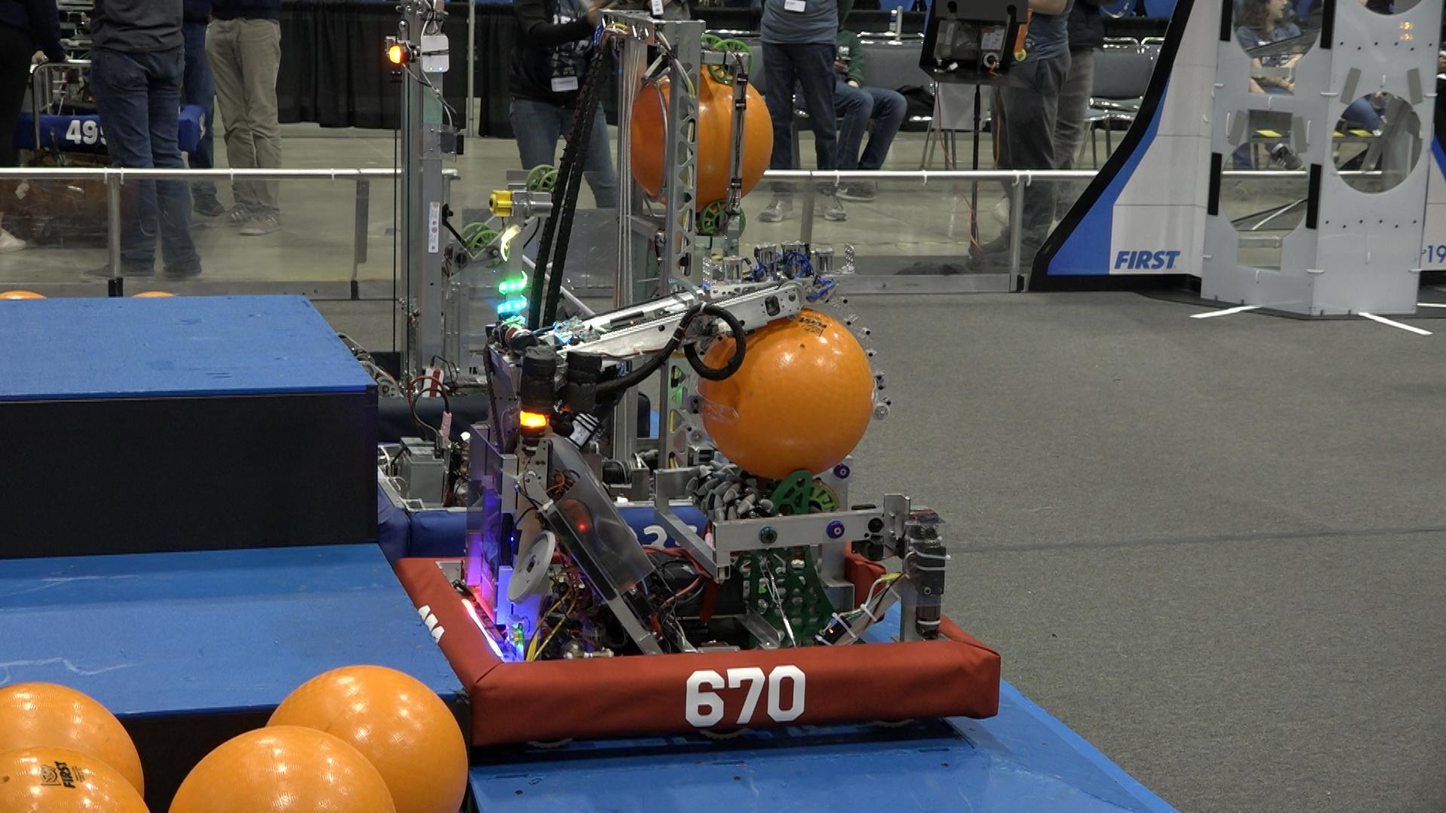robot: (393, 3, 1012, 753), (354, 0, 792, 583), (313, 179, 659, 448)
